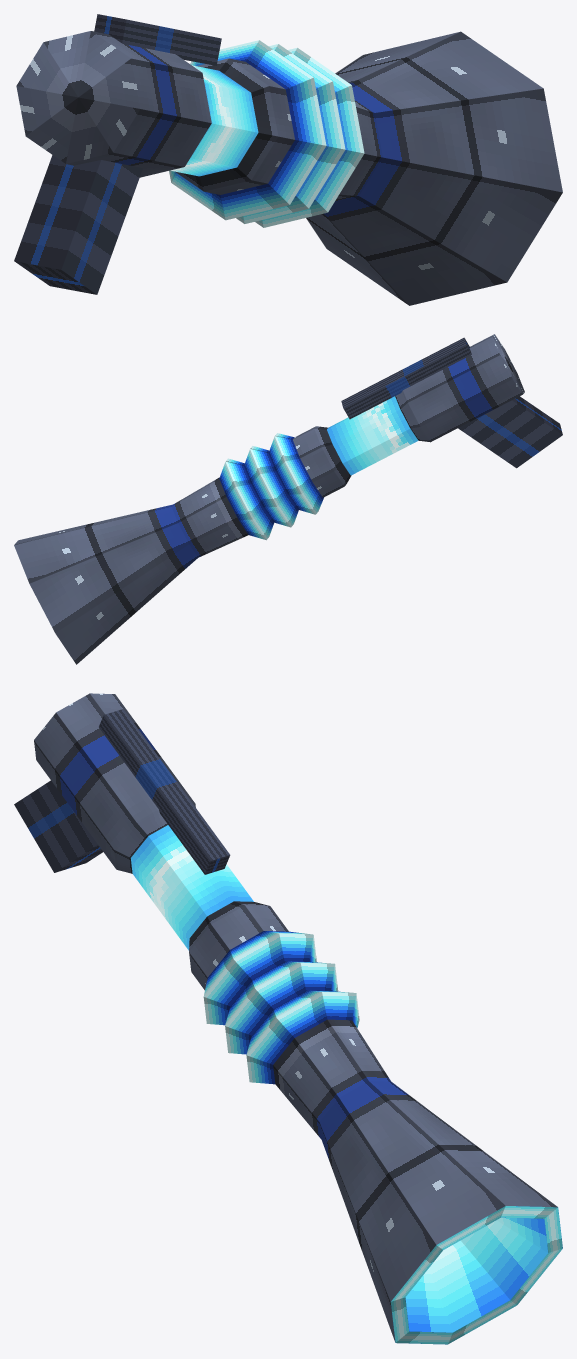
Rendered from cannon.glb.
The picture shows the model from 3 angles, top to bottom: view 1: azimuth 30°, elevation 25°; view 2: azimuth 150°, elevation 25°; view 3: azimuth 270°, elevation 25°; orthographic projection. The views are drawn at different scales.
Parts seen in each view (by area): view 1: cannon; view 2: cannon; view 3: cannon.
Part boxes in pixels (<box>): cannon: <box>14,14,562,305</box>; cannon: <box>14,334,562,664</box>; cannon: <box>14,693,562,1344</box>.
Bounding box in the file's own units: 67.79 × 47.96 × 53.65.
5 materials, 5 textured.
